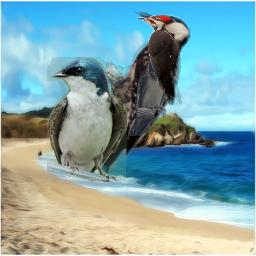Swallow: (47, 57, 127, 182), (128, 58, 169, 136)
Woodpecker: (95, 10, 201, 179), (135, 15, 182, 105)
